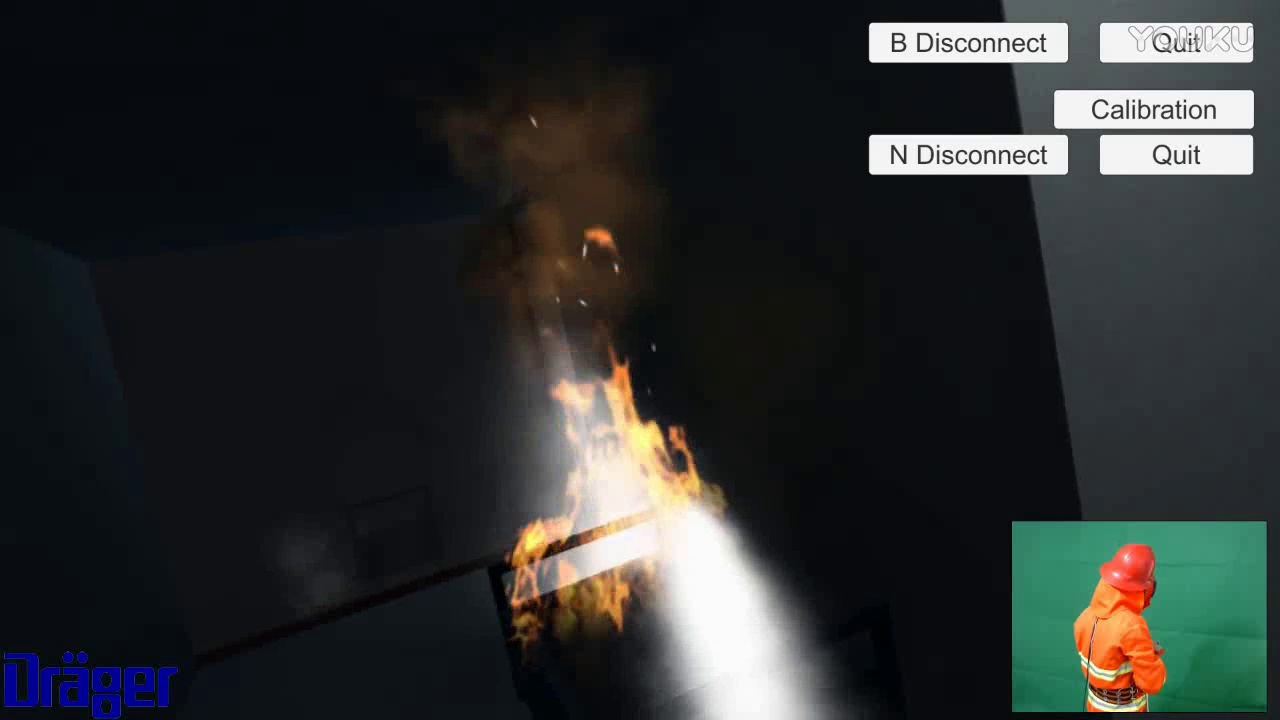fire: (448, 220, 742, 662)
